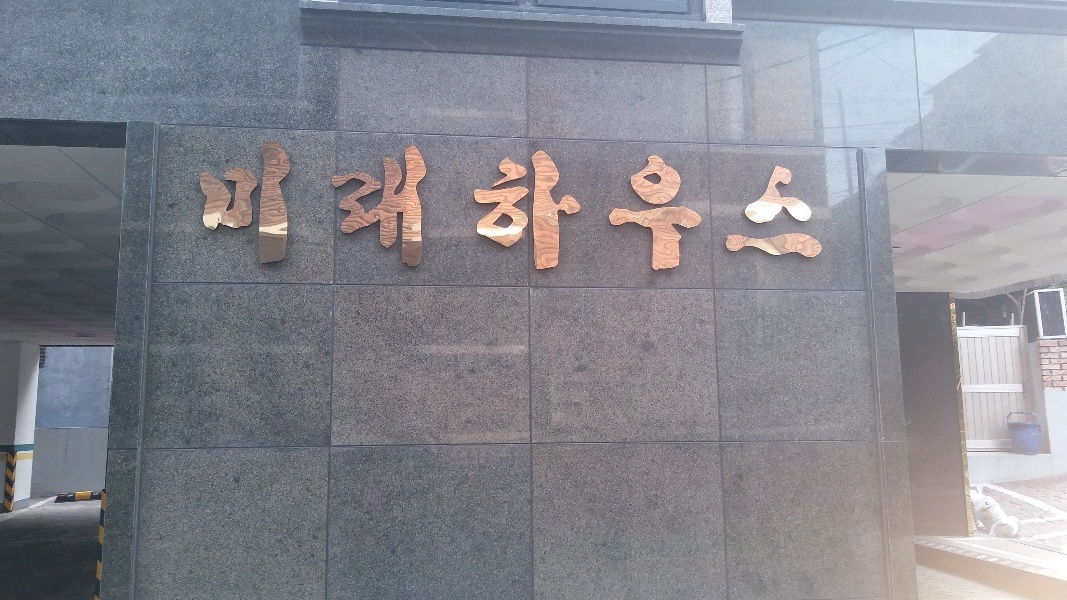text: (209, 140, 224, 274), (225, 140, 240, 274), (241, 140, 256, 274), (257, 140, 272, 274), (273, 140, 288, 274), (289, 140, 304, 274), (305, 140, 320, 274), (321, 140, 336, 274), (337, 140, 352, 274), (353, 140, 368, 274), (369, 140, 384, 274), (385, 140, 400, 274), (401, 140, 416, 274), (417, 140, 432, 274), (433, 140, 448, 274), (449, 140, 464, 274), (465, 140, 480, 274), (481, 140, 496, 274), (497, 140, 512, 274), (513, 140, 528, 274), (529, 140, 544, 274), (545, 140, 560, 274), (561, 140, 576, 274), (577, 140, 592, 274), (593, 140, 608, 274), (609, 140, 624, 274), (625, 140, 640, 274), (641, 140, 656, 274), (657, 140, 672, 274), (673, 140, 688, 274), (689, 140, 704, 274), (705, 140, 720, 274), (721, 140, 736, 274), (737, 140, 752, 274), (753, 140, 768, 274), (769, 140, 784, 274), (785, 140, 800, 274), (801, 140, 816, 274), (196, 140, 208, 274), (817, 140, 823, 274)
